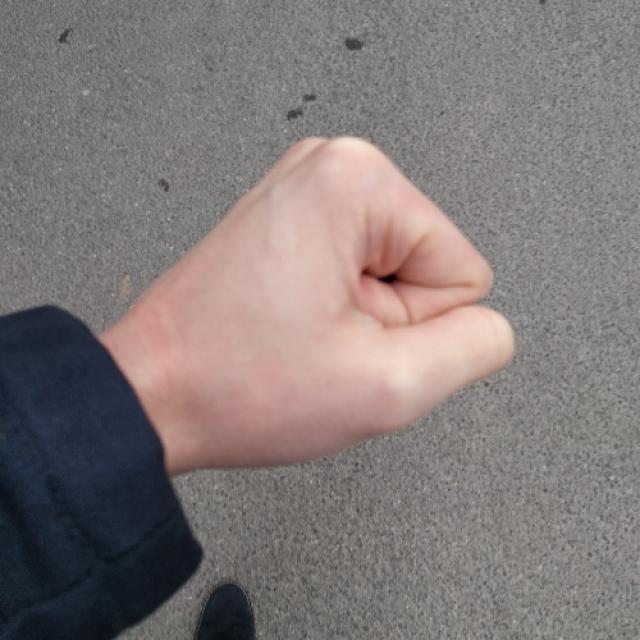rock: (180, 132, 517, 466)
